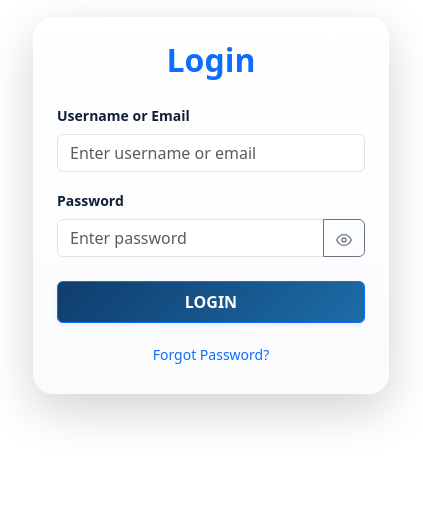
Login › shows a password error for a combined credential failure
Type "samuel@gmail.com" into the field labelled "Username or Email".
click(211, 153); type("samuel@gmail.com")  # box [57,134,365,172]
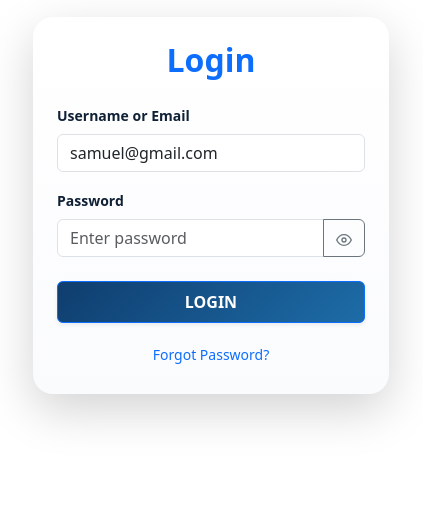
Type "wrong-password" into the password field labelled "Password".
click(190, 238); type("wrong-password")  # box [57,219,324,257]
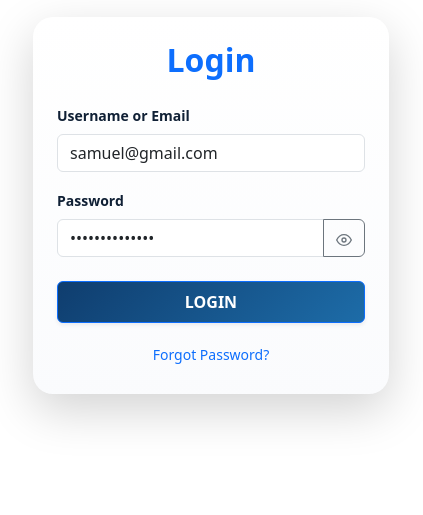
Click the button "LOGIN".
click(211, 302)  # box [57,281,365,323]
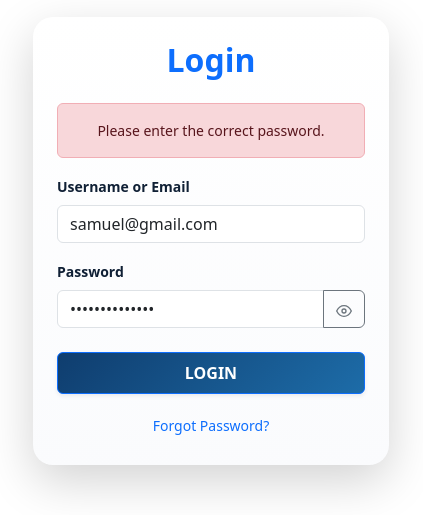
Expected: the text "Please enter the correct password." is shown, [57,103,365,158]
